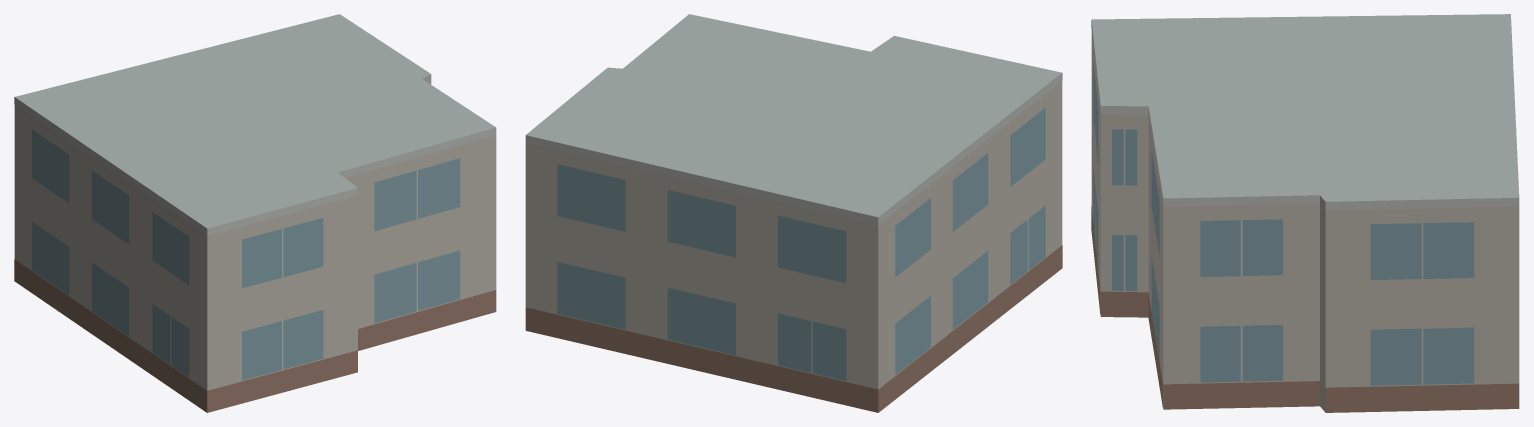
Rendered from survey-upis-32644007.glb.
3 renders of one model, left to right at view 1: azimuth 30°, elevation 25°; view 2: azimuth 150°, elevation 25°; view 3: azimuth 270°, elevation 25°, orthographic. The views are drawn at different scales.
Parts seen in each view (by area): view 1: survey-upis-32644007.tmp; view 2: survey-upis-32644007.tmp; view 3: survey-upis-32644007.tmp.
Boxes of the visible parts, x1,y1,x2,y2 form: survey-upis-32644007.tmp: (14,14,496,412); survey-upis-32644007.tmp: (525,14,1062,412); survey-upis-32644007.tmp: (1091,14,1519,412).
Size of the model in its own units: 11.65 by 6.1 by 11.21.
